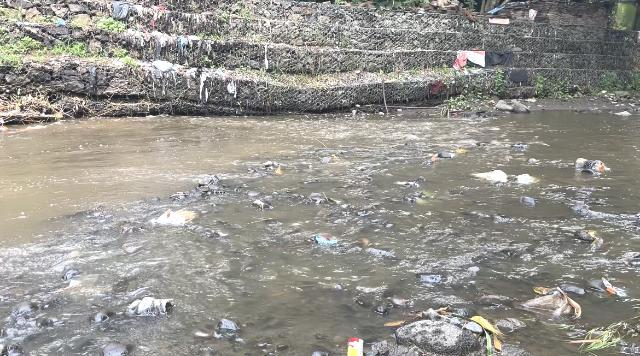Sampah Anorganik: (517, 287, 579, 315), (572, 156, 608, 174), (598, 278, 625, 300), (474, 170, 505, 184), (342, 336, 363, 356), (311, 236, 337, 249), (392, 180, 420, 187), (515, 174, 534, 183), (453, 147, 470, 154), (355, 166, 361, 171)
Sampah Organik: (392, 319, 501, 350), (151, 211, 195, 227), (582, 230, 596, 239), (331, 154, 342, 162), (428, 156, 437, 163), (275, 168, 283, 174)
